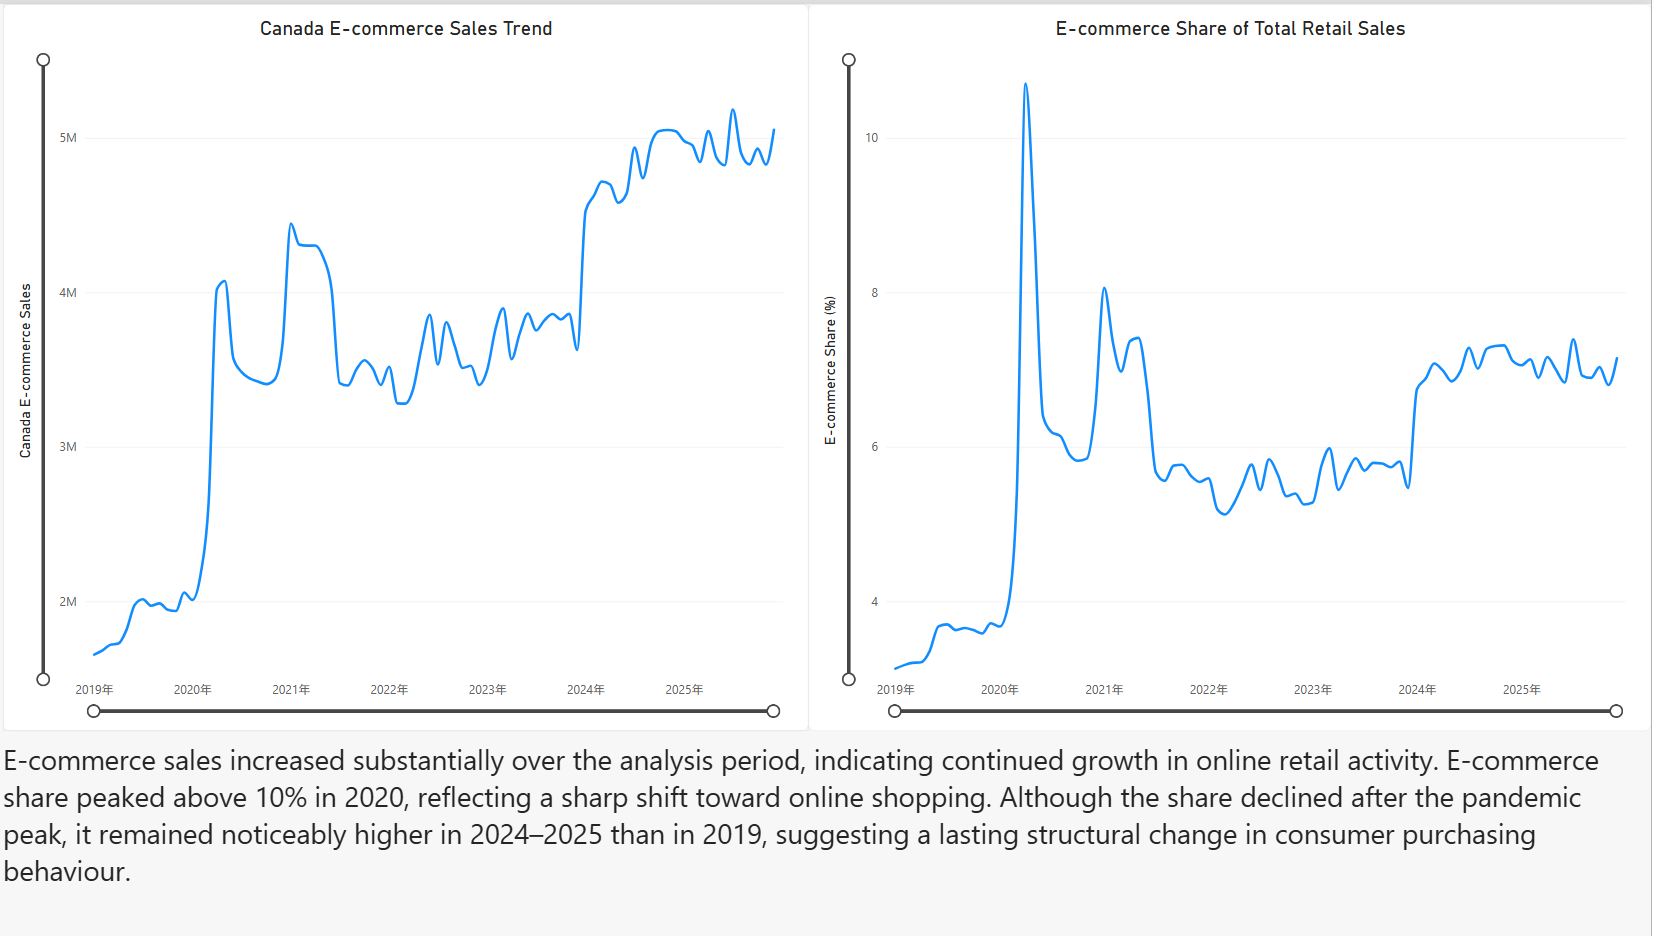

What the dashboard file says about the page in this screenshot:
{"tool":"powerbi","page":{"name":"Canada E-commerce Sales Trend","canvas":[1920,1080],"ordinal":2},"visuals":[{"type":"lineChart","title":"Canada E-commerce Sales Trend","fields":{"Category":["sta_canada ecommerce_analysis.Date"],"Y":["Sum(sta_canada ecommerce_analysis.Ecommerce_value)"]},"box":[10.4,0,933.4,843],"z":0},{"type":"lineChart","title":"E-commerce Share of Total Retail Sales","fields":{"Category":["sta_canada ecommerce_analysis.Date"],"Y":["Sum(sta_canada ecommerce_analysis.ecommerce_share)"]},"box":[943.8,0,976.8,843],"z":1000},{"type":"textbox","box":[10.4,853.4,1910.2,226],"z":2000}]}

Visuals, with their boxes in screenshot pixels (x1, y1, x2, y2), scaled from the page's 1920x1080 canvas onto the 1654x936 screenshot:
"Canada E-commerce Sales Trend" lineChart: 9, 0, 813, 731
"E-commerce Share of Total Retail Sales" lineChart: 813, 0, 1653, 731
textbox: 9, 740, 1653, 935
